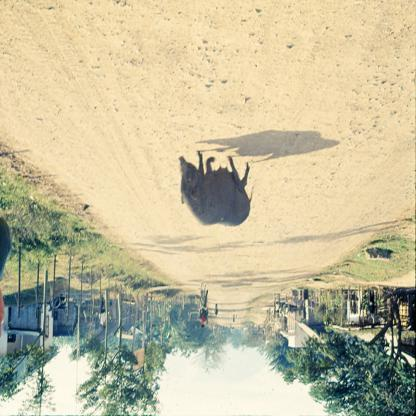boar: (178, 154, 254, 227)
